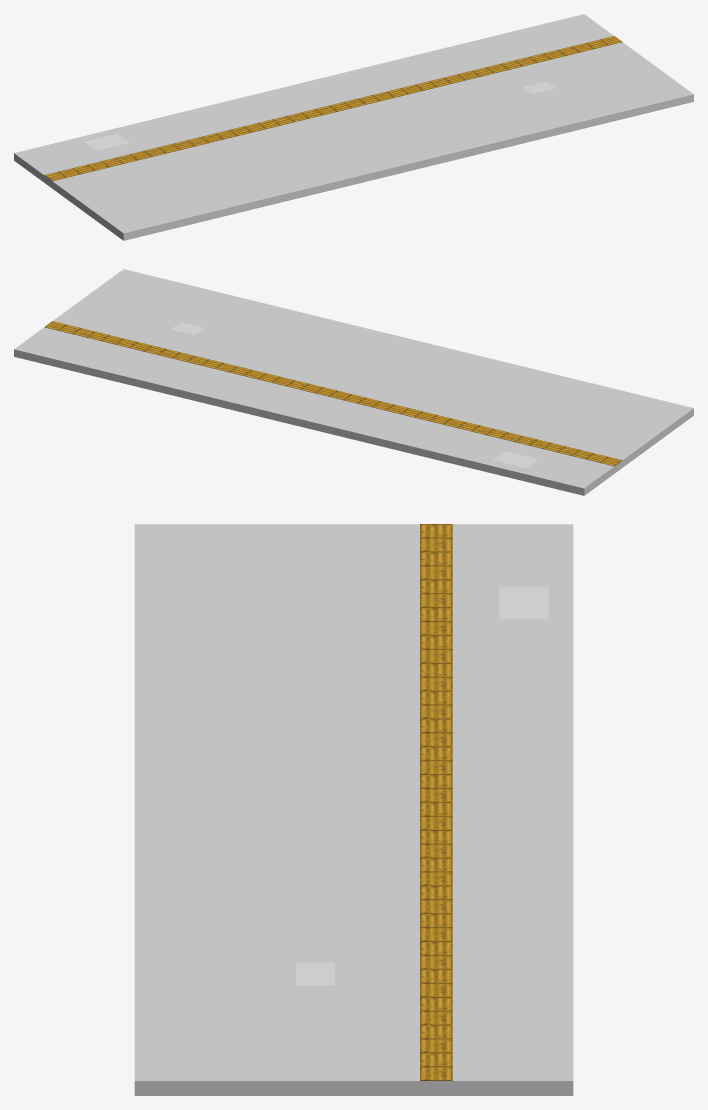
The model's file is StreetSidewalk.fbx.
3 renders of one model, top to bottom at view 1: azimuth 30°, elevation 25°; view 2: azimuth 150°, elevation 25°; view 3: azimuth 270°, elevation 25°, orthographic. The views are drawn at different scales.
Visible parts, largest first — view 1: StreetSidewalk_Body; view 2: StreetSidewalk_Body; view 3: StreetSidewalk_Body.
Part boxes in pixels (bbox=[...]): StreetSidewalk_Body: bbox=[14, 14, 693, 240]; StreetSidewalk_Body: bbox=[14, 269, 693, 495]; StreetSidewalk_Body: bbox=[134, 524, 573, 1095].
Size of the model in its own units: 12 by 0.153 by 4.
